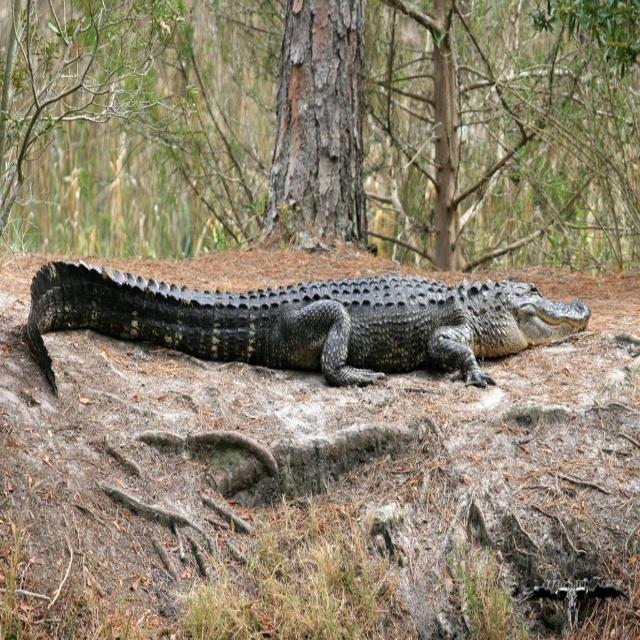Crocodile: (26, 262, 591, 398)
